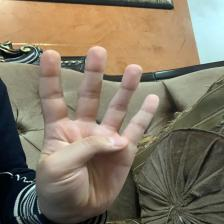four: (31, 48, 166, 211)
